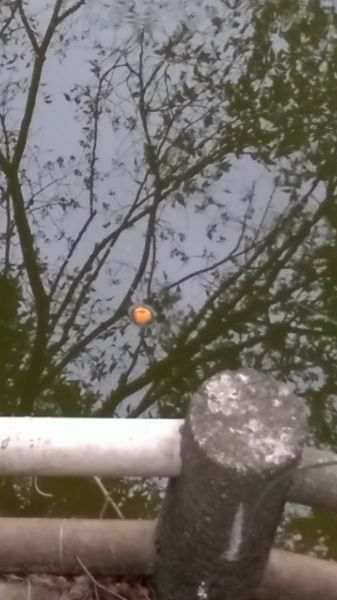eggs: (127, 301, 156, 328)
